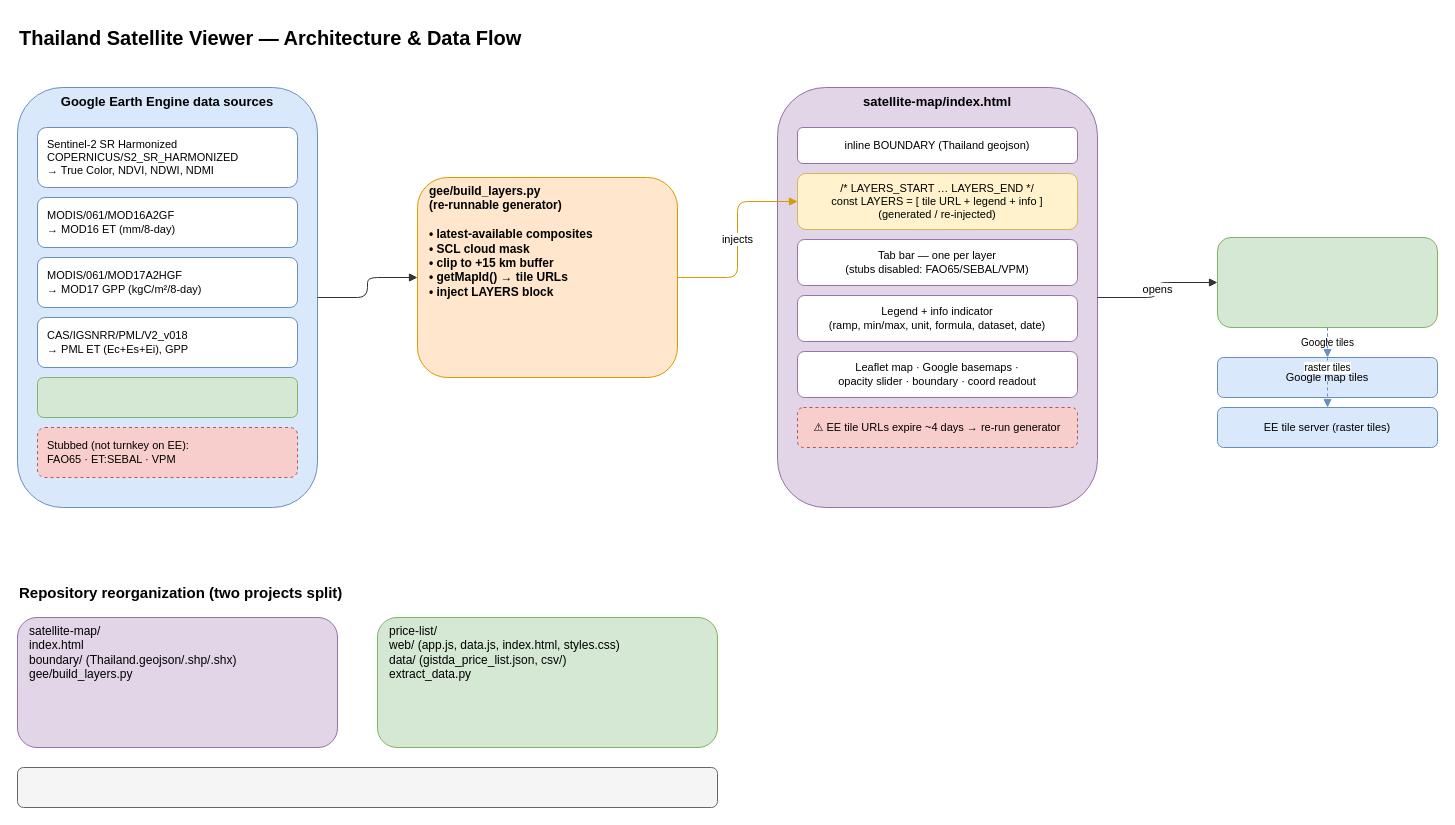
The diagram is 1455 pixels wide and 825 high, and some of its shapes have lost their labels. The shapes that lost their labels are listed below. From the top down, each one's centre as x and y in pixels, then its label:
At point 1327,282: "Browser (double-click index.html — file://)".
At point 167,397: "Derived: WUE = MOD17 GPP ÷ MOD16 ET".
At point 367,787: "root: requirements.txt · README.md · .venv (shared)".
